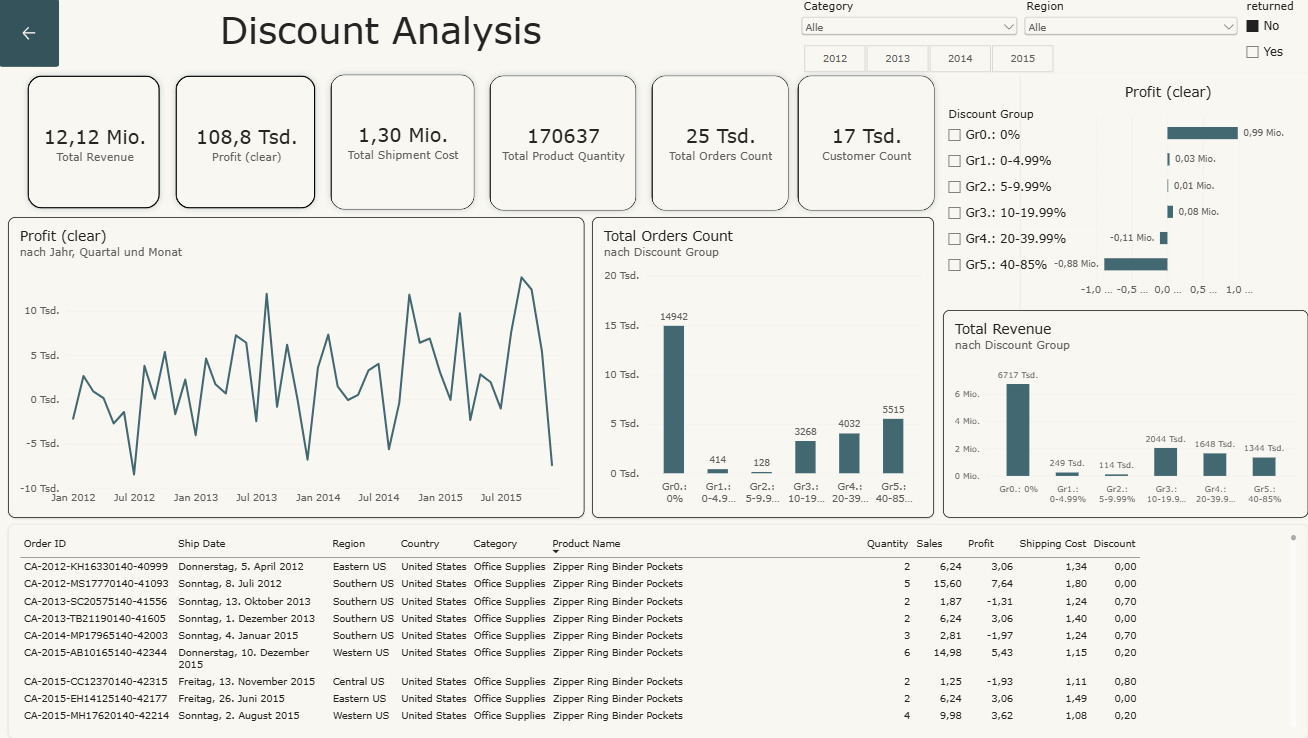

The dashboard page shown, as its layout file describes it:
{"tool":"powerbi","page":{"name":"Discount Analysis","canvas":[1920,1080],"ordinal":3},"visuals":[{"type":"slicer","fields":{"Values":["factOrders.Dicount Group"]},"box":[1376.9,157.7,227.7,253.7],"z":0},{"type":"lineChart","fields":{"Category":["DimDate.Date.Variation.Datumshierarchie.Jahr","DimDate.Date.Variation.Datumshierarchie.Quartal","DimDate.Date.Variation.Datumshierarchie.Monat"],"Y":["_measures.Profit without Shipment"]},"box":[13.7,318.2,840.7,438.9],"z":1000},{"type":"columnChart","fields":{"Category":["factOrders.Dicount Group"],"Y":["_measures.Total Orders Count"]},"box":[865.4,318.2,499.2,438.9],"z":2000},{"type":"tableEx","fields":{"Values":["factOrders.Order ID","factOrders.Ship Date","dimStoreAdress.Region","dimStoreAdress.Country","dimProduct.Category Hierarchie 2.Category","dimProduct.Category Hierarchie 2.Product Name","factOrders.Quantity","factOrders.Sales","factOrders.Profit","factOrders.Shipping Cost","factOrders.Discount"]},"box":[13.7,766.6,1896.7,314.1],"z":3000},{"type":"cardVisual","fields":{"Data":["_measures.Total_Revenue"]},"box":[31.3,101.1,215.1,216.5],"z":4000},{"type":"cardVisual","fields":{"Data":["_measures.Profit_withOUT_shipment"]},"box":[246.4,101.1,226.5,216.5],"z":5000},{"type":"slicer","fields":{"Values":["factOrders.returned"]},"box":[1811.7,0,108.3,87.8],"z":6000},{"type":"cardVisual","fields":{"Data":["_measures.Total_Ship_Coast"]},"box":[472.9,99.7,232.2,219.3],"z":7000},{"type":"cardVisual","fields":{"Data":["_measures.Total_product_quantity"]},"box":[705,101.1,236.4,219.3],"z":8000},{"type":"slicer","fields":{"Values":["DimDate.Date.Variation.Datumshierarchie.Jahr"]},"box":[1153.4,65.8,403.2,42.5],"z":9000},{"type":"textbox","box":[31.3,11.4,1052.6,89.7],"z":10000},{"type":"cardVisual","fields":{"Data":["_measures.Total Orders Count"]},"box":[941.5,101.1,222.2,219.3],"z":11000},{"type":"slicer","fields":{"Values":["dimProduct.Category"]},"box":[1165.7,0,325.4,87.9],"z":12000},{"type":"slicer","fields":{"Values":["dimStoreAdress.Region"]},"box":[1490.7,0,320.9,65.8],"z":13000},{"type":"cardVisual","fields":{"Data":["_measures.Customer Count"]},"box":[1153.6,100.9,222.2,219.3],"z":14000},{"type":"actionButton","box":[0,0,87.9,99.3],"z":15000},{"type":"columnChart","fields":{"Category":["factOrders.Dicount Group"],"Y":["_measures.Total Revenue"]},"box":[1376.9,453.9,533.5,303.1],"z":16000},{"type":"barChart","title":"Profit (clear) ","fields":{"Category":["factOrders.Dicount Group"],"Y":["_measures.Profit (clear)"]},"box":[1490.7,109.7,429.3,344.2],"z":17000}]}

Visuals, with their boxes in screenshot pixels (x1, y1, x2, y2), scaled from the page's 1920x1080 canvas onto the 1308x738 screenshot:
slicer - factOrders.Dicount Group: x1=938 y1=108 x2=1093 y2=281
lineChart - DimDate.Date.Variation.Datumshierarchie.Jahr x DimDate.Date.Variation.Datumshierarchie.Quartal: x1=9 y1=217 x2=582 y2=517
columnChart - factOrders.Dicount Group x _measures.Total Orders Count: x1=590 y1=217 x2=930 y2=517
tableEx - factOrders.Order ID x factOrders.Ship Date: x1=9 y1=524 x2=1301 y2=737
cardVisual - _measures.Total_Revenue: x1=21 y1=69 x2=168 y2=217
cardVisual - _measures.Profit_withOUT_shipment: x1=168 y1=69 x2=322 y2=217
slicer - factOrders.returned: x1=1234 y1=0 x2=1307 y2=60
cardVisual - _measures.Total_Ship_Coast: x1=322 y1=68 x2=480 y2=218
cardVisual - _measures.Total_product_quantity: x1=480 y1=69 x2=641 y2=219
slicer - DimDate.Date.Variation.Datumshierarchie.Jahr: x1=786 y1=45 x2=1060 y2=74
textbox: x1=21 y1=8 x2=738 y2=69
cardVisual - _measures.Total Orders Count: x1=641 y1=69 x2=793 y2=219
slicer - dimProduct.Category: x1=794 y1=0 x2=1016 y2=60
slicer - dimStoreAdress.Region: x1=1016 y1=0 x2=1234 y2=45
cardVisual - _measures.Customer Count: x1=786 y1=69 x2=937 y2=219
actionButton: x1=0 y1=0 x2=60 y2=68
columnChart - factOrders.Dicount Group x _measures.Total Revenue: x1=938 y1=310 x2=1301 y2=517
"Profit (clear) " barChart: x1=1016 y1=75 x2=1307 y2=310
